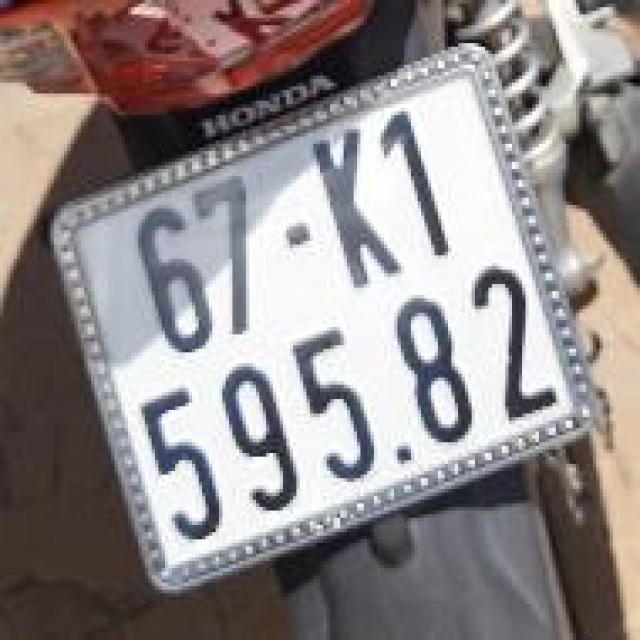1: (366, 86, 482, 280)
2: (454, 244, 569, 437)
5: (277, 313, 394, 498), (130, 374, 241, 550)
6: (125, 192, 226, 365)
7: (181, 162, 280, 349)
8: (375, 273, 490, 457)
9: (208, 347, 314, 521)
K: (297, 117, 416, 306)
